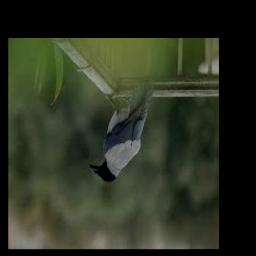Crow: (89, 84, 155, 184)
